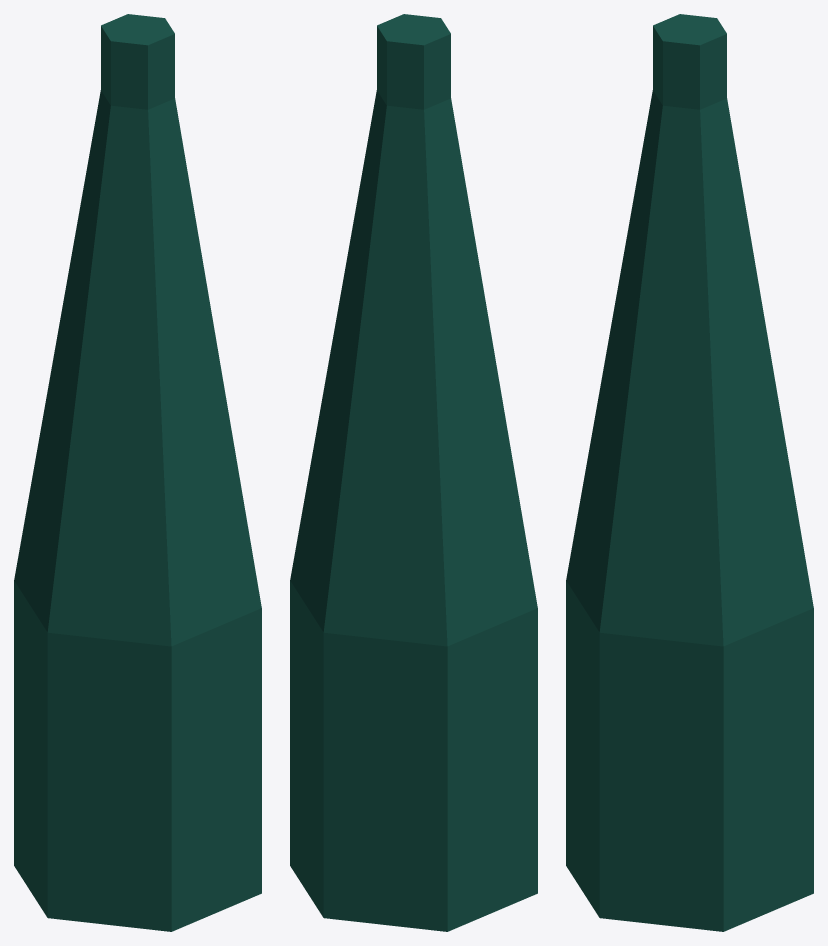
File: KITCHEN INVENTORY 5.fbx
The picture shows the model from 3 angles, left to right: view 1: azimuth 30°, elevation 25°; view 2: azimuth 150°, elevation 25°; view 3: azimuth 270°, elevation 25°; orthographic projection.
Visible parts, largest first — view 1: KITCHEN_INVENTORY_5; view 2: KITCHEN_INVENTORY_5; view 3: KITCHEN_INVENTORY_5.
Boxes of the visible parts, x1,y1,x2,y2 form: KITCHEN_INVENTORY_5: [14, 14, 261, 931]; KITCHEN_INVENTORY_5: [290, 14, 537, 931]; KITCHEN_INVENTORY_5: [566, 14, 813, 931].
Size of the model in its own units: 12.74 by 48.31 by 12.76.
1 material, 1 textured.
